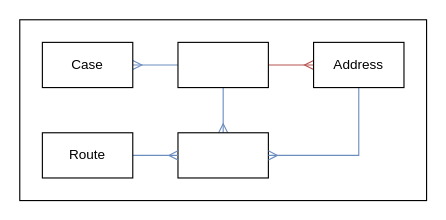
Some shapes in this 446 by 220 pixel diagram are drawn without their labels. The centre of each missing label's shape, as x and y in pixels:
Contact: (222,64)
Package: (222,155)
